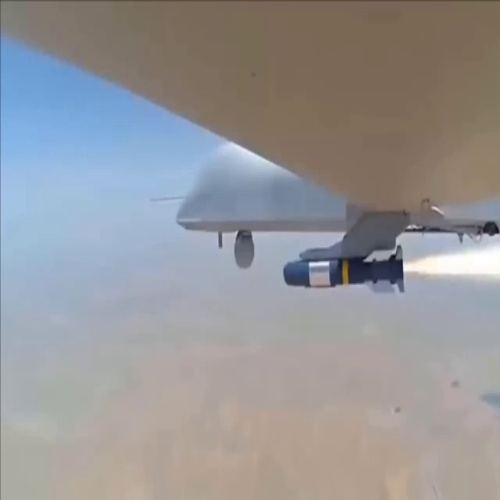uav: (51, 4, 498, 293)
